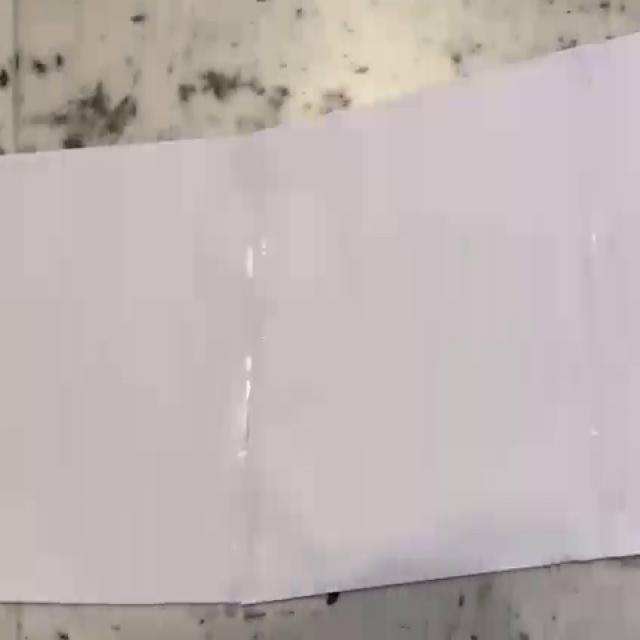road: (0, 33, 640, 603)
